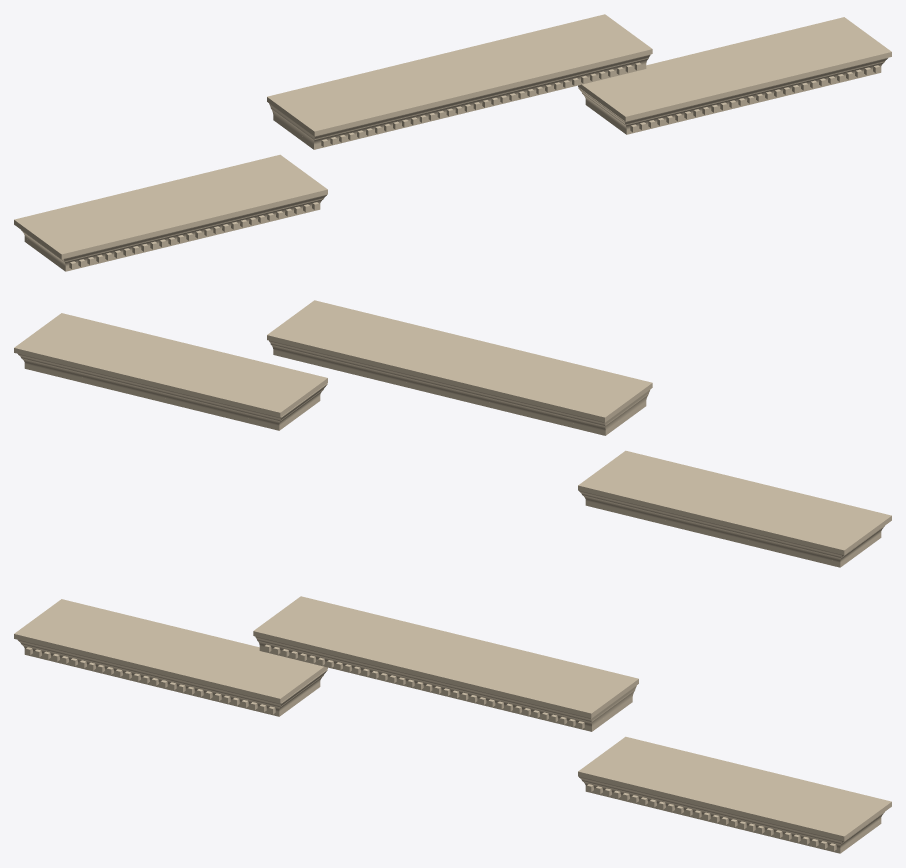
File: altar-cornice.glb
The picture shows the model from 3 angles, top to bottom: view 1: azimuth 30°, elevation 25°; view 2: azimuth 150°, elevation 25°; view 3: azimuth 330°, elevation 25°; orthographic projection.
Parts seen in each view (by area): view 1: CORNICE_C_3, CORNICE_L_3, CORNICE_R_3, CORNICE_C_2, CORNICE_C_1, CORNICE_R_2, CORNICE_L_2, CORNICE_C_0, CORNICE_L_1, CORNICE_R_1, CORNICE_L_0, CORNICE_R_0; view 2: CORNICE_C_3, CORNICE_L_3, CORNICE_R_3, CORNICE_C_0, CORNICE_C_1, CORNICE_L_0, CORNICE_R_0, CORNICE_C_2, CORNICE_L_1, CORNICE_R_1, CORNICE_R_2, CORNICE_L_2; view 3: CORNICE_C_3, CORNICE_R_3, CORNICE_L_3, CORNICE_C_2, CORNICE_C_1, CORNICE_L_2, CORNICE_R_2, CORNICE_C_0, CORNICE_R_1, CORNICE_L_1, CORNICE_R_0, CORNICE_L_0.
Part boxes in pixels (bbox=[...]): CORNICE_C_3: bbox=[267, 14, 652, 136]; CORNICE_L_3: bbox=[14, 154, 327, 259]; CORNICE_R_3: bbox=[578, 17, 891, 121]; CORNICE_C_2: bbox=[269, 54, 650, 139]; CORNICE_C_1: bbox=[271, 58, 648, 144]; CORNICE_R_2: bbox=[578, 58, 887, 125]; CORNICE_L_2: bbox=[21, 194, 326, 262]; CORNICE_C_0: bbox=[273, 64, 646, 149]; CORNICE_L_1: bbox=[22, 199, 323, 266]; CORNICE_R_1: bbox=[583, 62, 883, 129]; CORNICE_L_0: bbox=[24, 205, 320, 271]; CORNICE_R_0: bbox=[585, 68, 881, 134]; CORNICE_C_3: bbox=[267, 300, 652, 422]; CORNICE_L_3: bbox=[578, 450, 891, 555]; CORNICE_R_3: bbox=[14, 313, 327, 417]; CORNICE_C_0: bbox=[273, 350, 646, 435]; CORNICE_C_1: bbox=[271, 344, 647, 430]; CORNICE_L_0: bbox=[585, 501, 881, 567]; CORNICE_R_0: bbox=[24, 364, 320, 430]; CORNICE_C_2: bbox=[269, 340, 650, 425]; CORNICE_L_1: bbox=[582, 495, 883, 562]; CORNICE_R_1: bbox=[22, 358, 322, 425]; CORNICE_R_2: bbox=[18, 354, 327, 421]; CORNICE_L_2: bbox=[579, 490, 884, 558]; CORNICE_C_3: bbox=[253, 596, 638, 718]; CORNICE_R_3: bbox=[578, 736, 891, 841]; CORNICE_L_3: bbox=[14, 599, 327, 703]; CORNICE_C_2: bbox=[255, 636, 636, 721]; CORNICE_C_1: bbox=[257, 640, 634, 726]; CORNICE_L_2: bbox=[18, 640, 327, 707]; CORNICE_R_2: bbox=[579, 776, 884, 844]; CORNICE_C_0: bbox=[259, 646, 632, 731]; CORNICE_R_1: bbox=[582, 781, 883, 848]; CORNICE_L_1: bbox=[22, 644, 322, 711]; CORNICE_R_0: bbox=[585, 787, 881, 853]; CORNICE_L_0: bbox=[24, 650, 320, 716].
Size of the model in its own units: 7.87 by 0.8103 by 0.8941.
